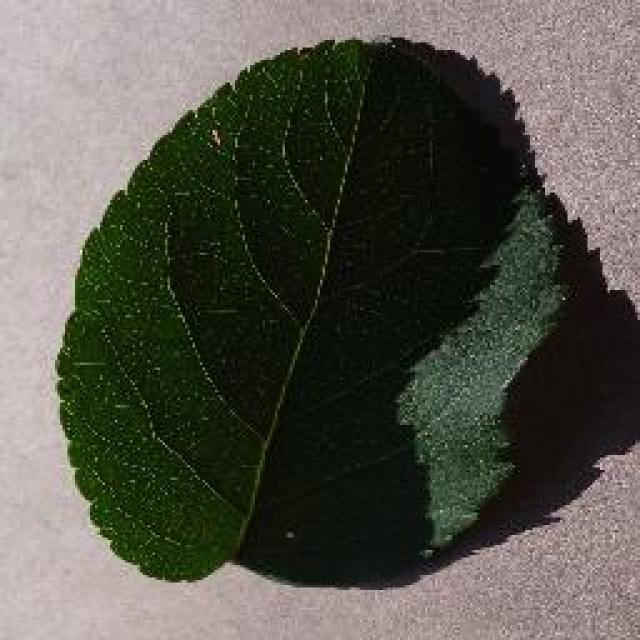apple healthy: (53, 33, 575, 585)
